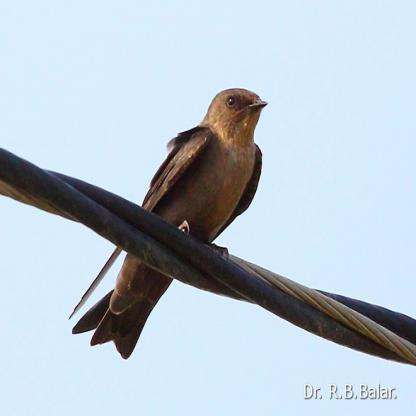Burung: (69, 87, 266, 359)
